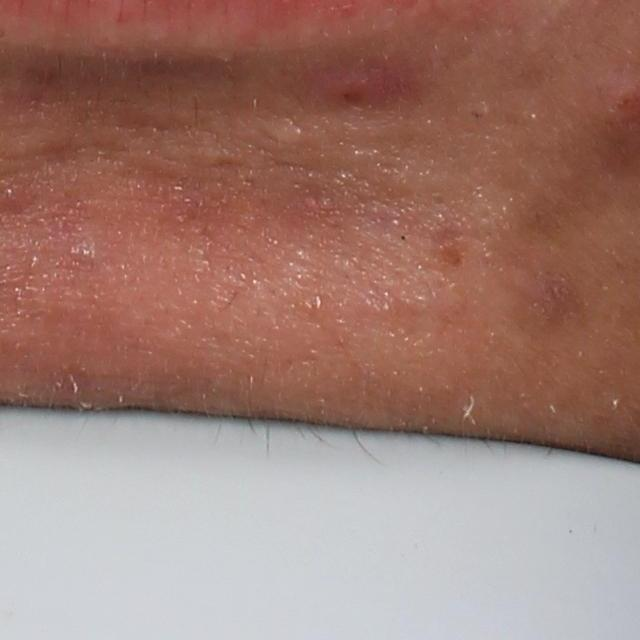hypertrophic_scar: (254, 114, 312, 146)
papule: (335, 68, 409, 103)
